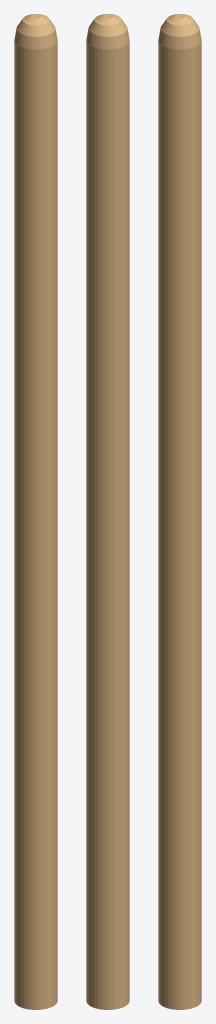
File: Spoon.fbx
3 views of the same model, side by side, from view 1: azimuth 90°, elevation 25°; view 2: azimuth 210°, elevation 25°; view 3: azimuth 270°, elevation 25° (orthographic).
Visible parts, largest first — view 1: Spoon; view 2: Spoon; view 3: Spoon.
Boxes of the visible parts, x1,y1,x2,y2 form: Spoon: (14,14,57,1009); Spoon: (86,14,129,1009); Spoon: (158,14,201,1009).
Size of the model in its own units: 16.19 by 406 by 16.19.
